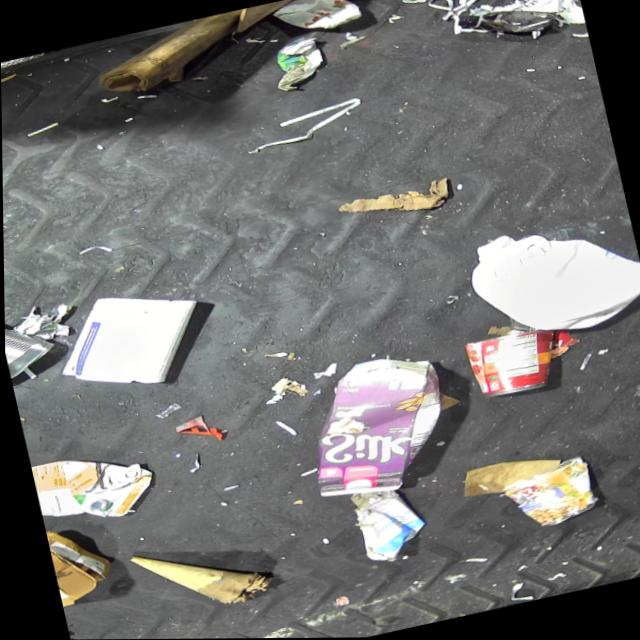can: (460, 323, 564, 402), (496, 454, 598, 534), (4, 306, 60, 383), (268, 0, 362, 39)
milk_jug: (459, 207, 640, 350)
non_white_jug: (291, 346, 463, 505), (28, 437, 161, 531)
